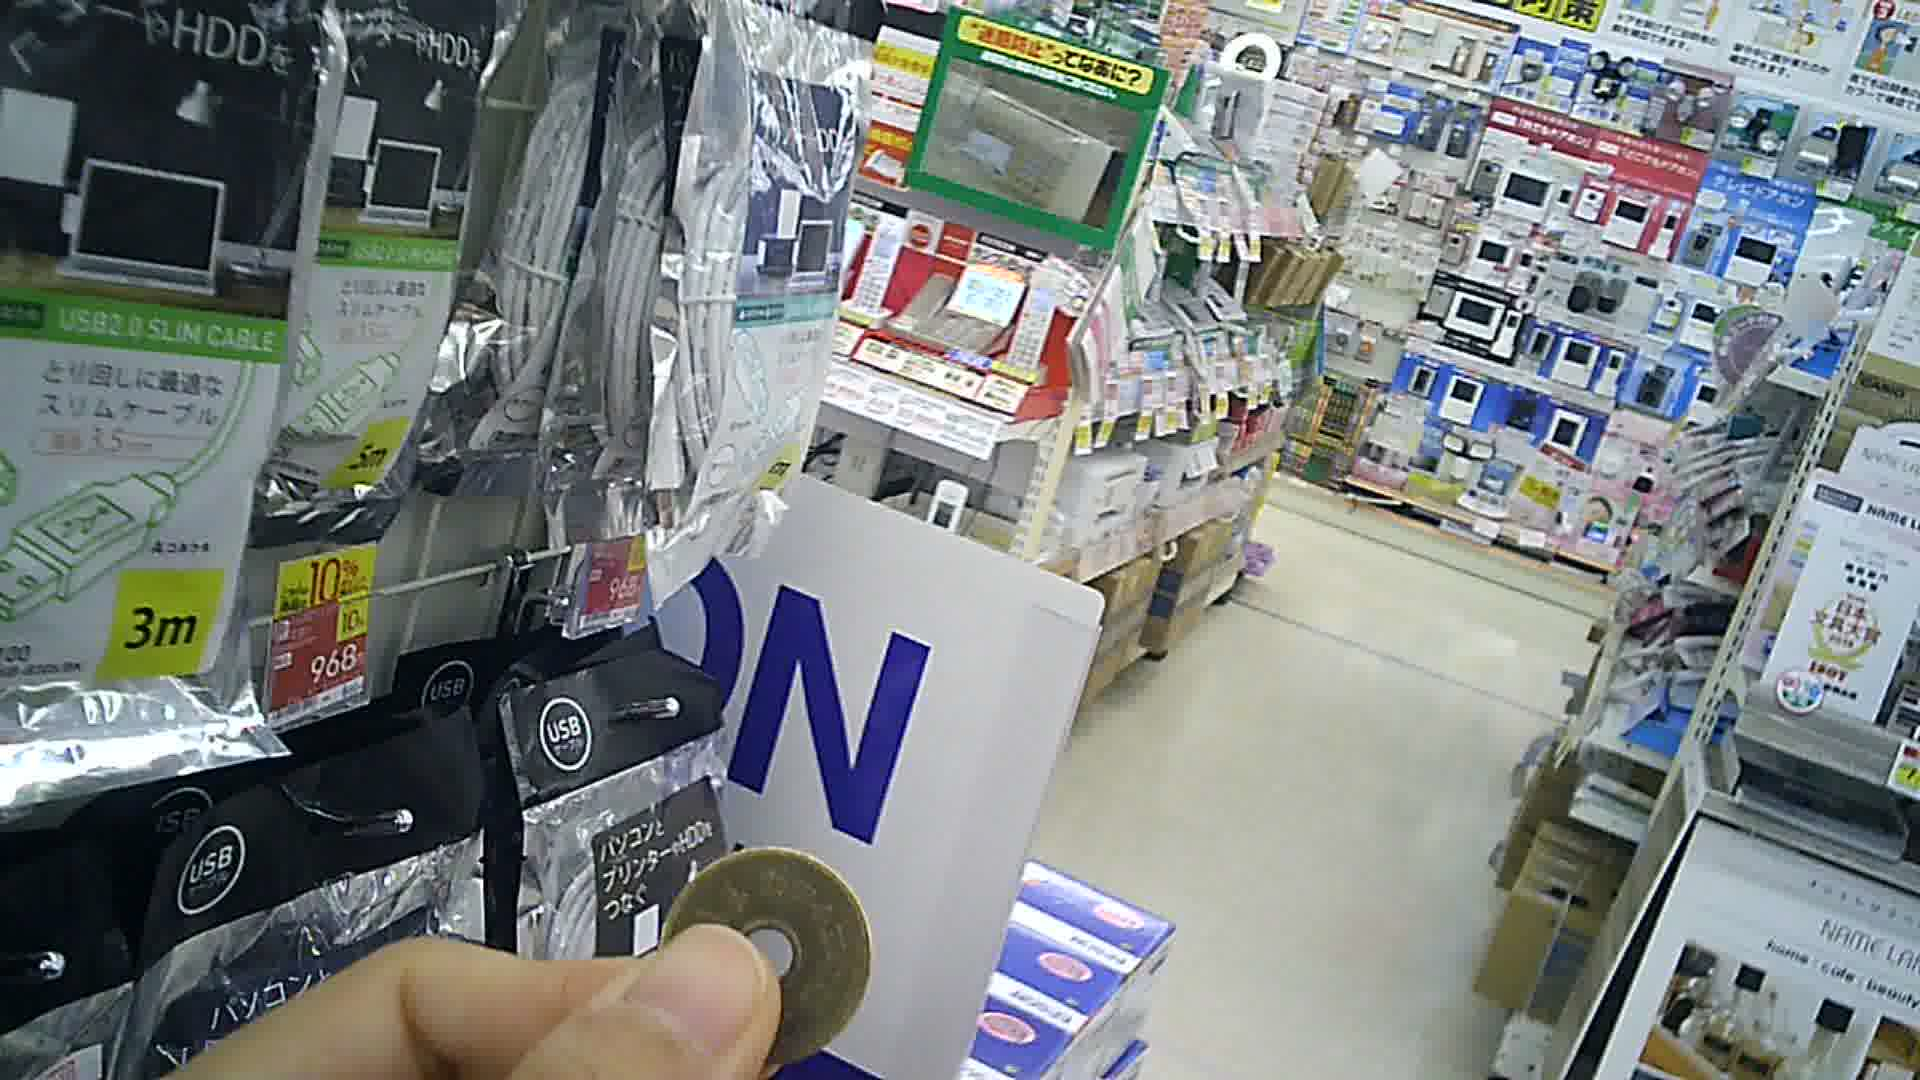5 Yen: (659, 843, 880, 1065)
